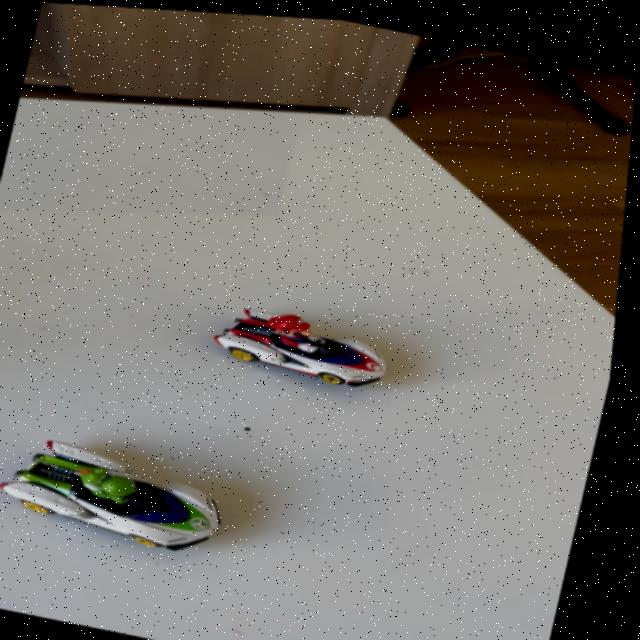mario: (200, 285, 423, 400)
yoshi: (0, 421, 258, 564)
